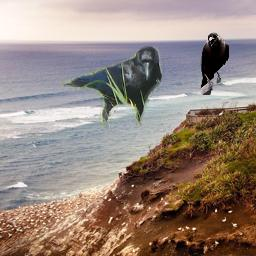Crow: (60, 46, 162, 127), (200, 32, 229, 95)
